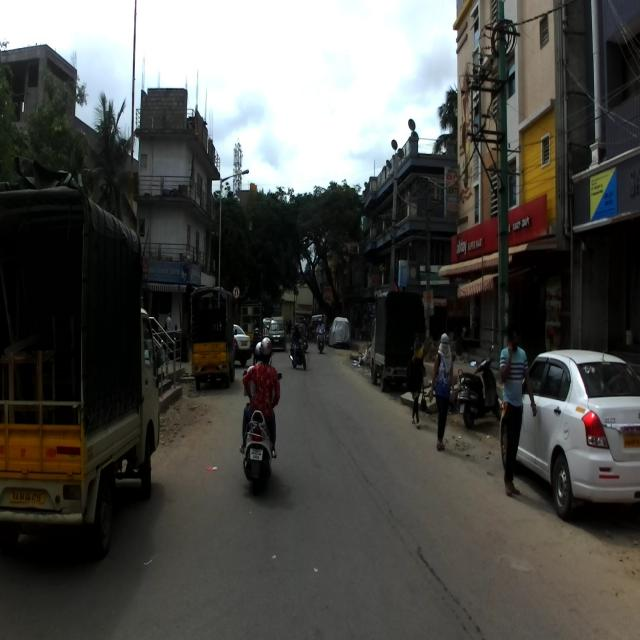car: (499, 348, 640, 521)
scooter: (239, 372, 279, 500), (458, 344, 500, 428)
truck: (0, 155, 165, 560)
